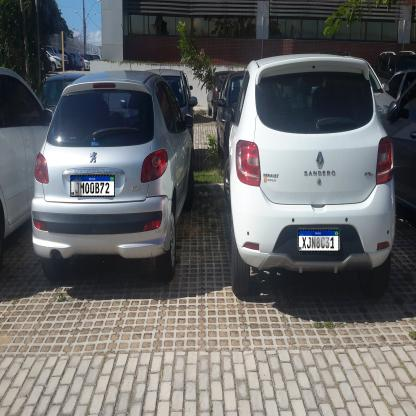PlacaM: (70, 175, 115, 197), (298, 230, 339, 252)
